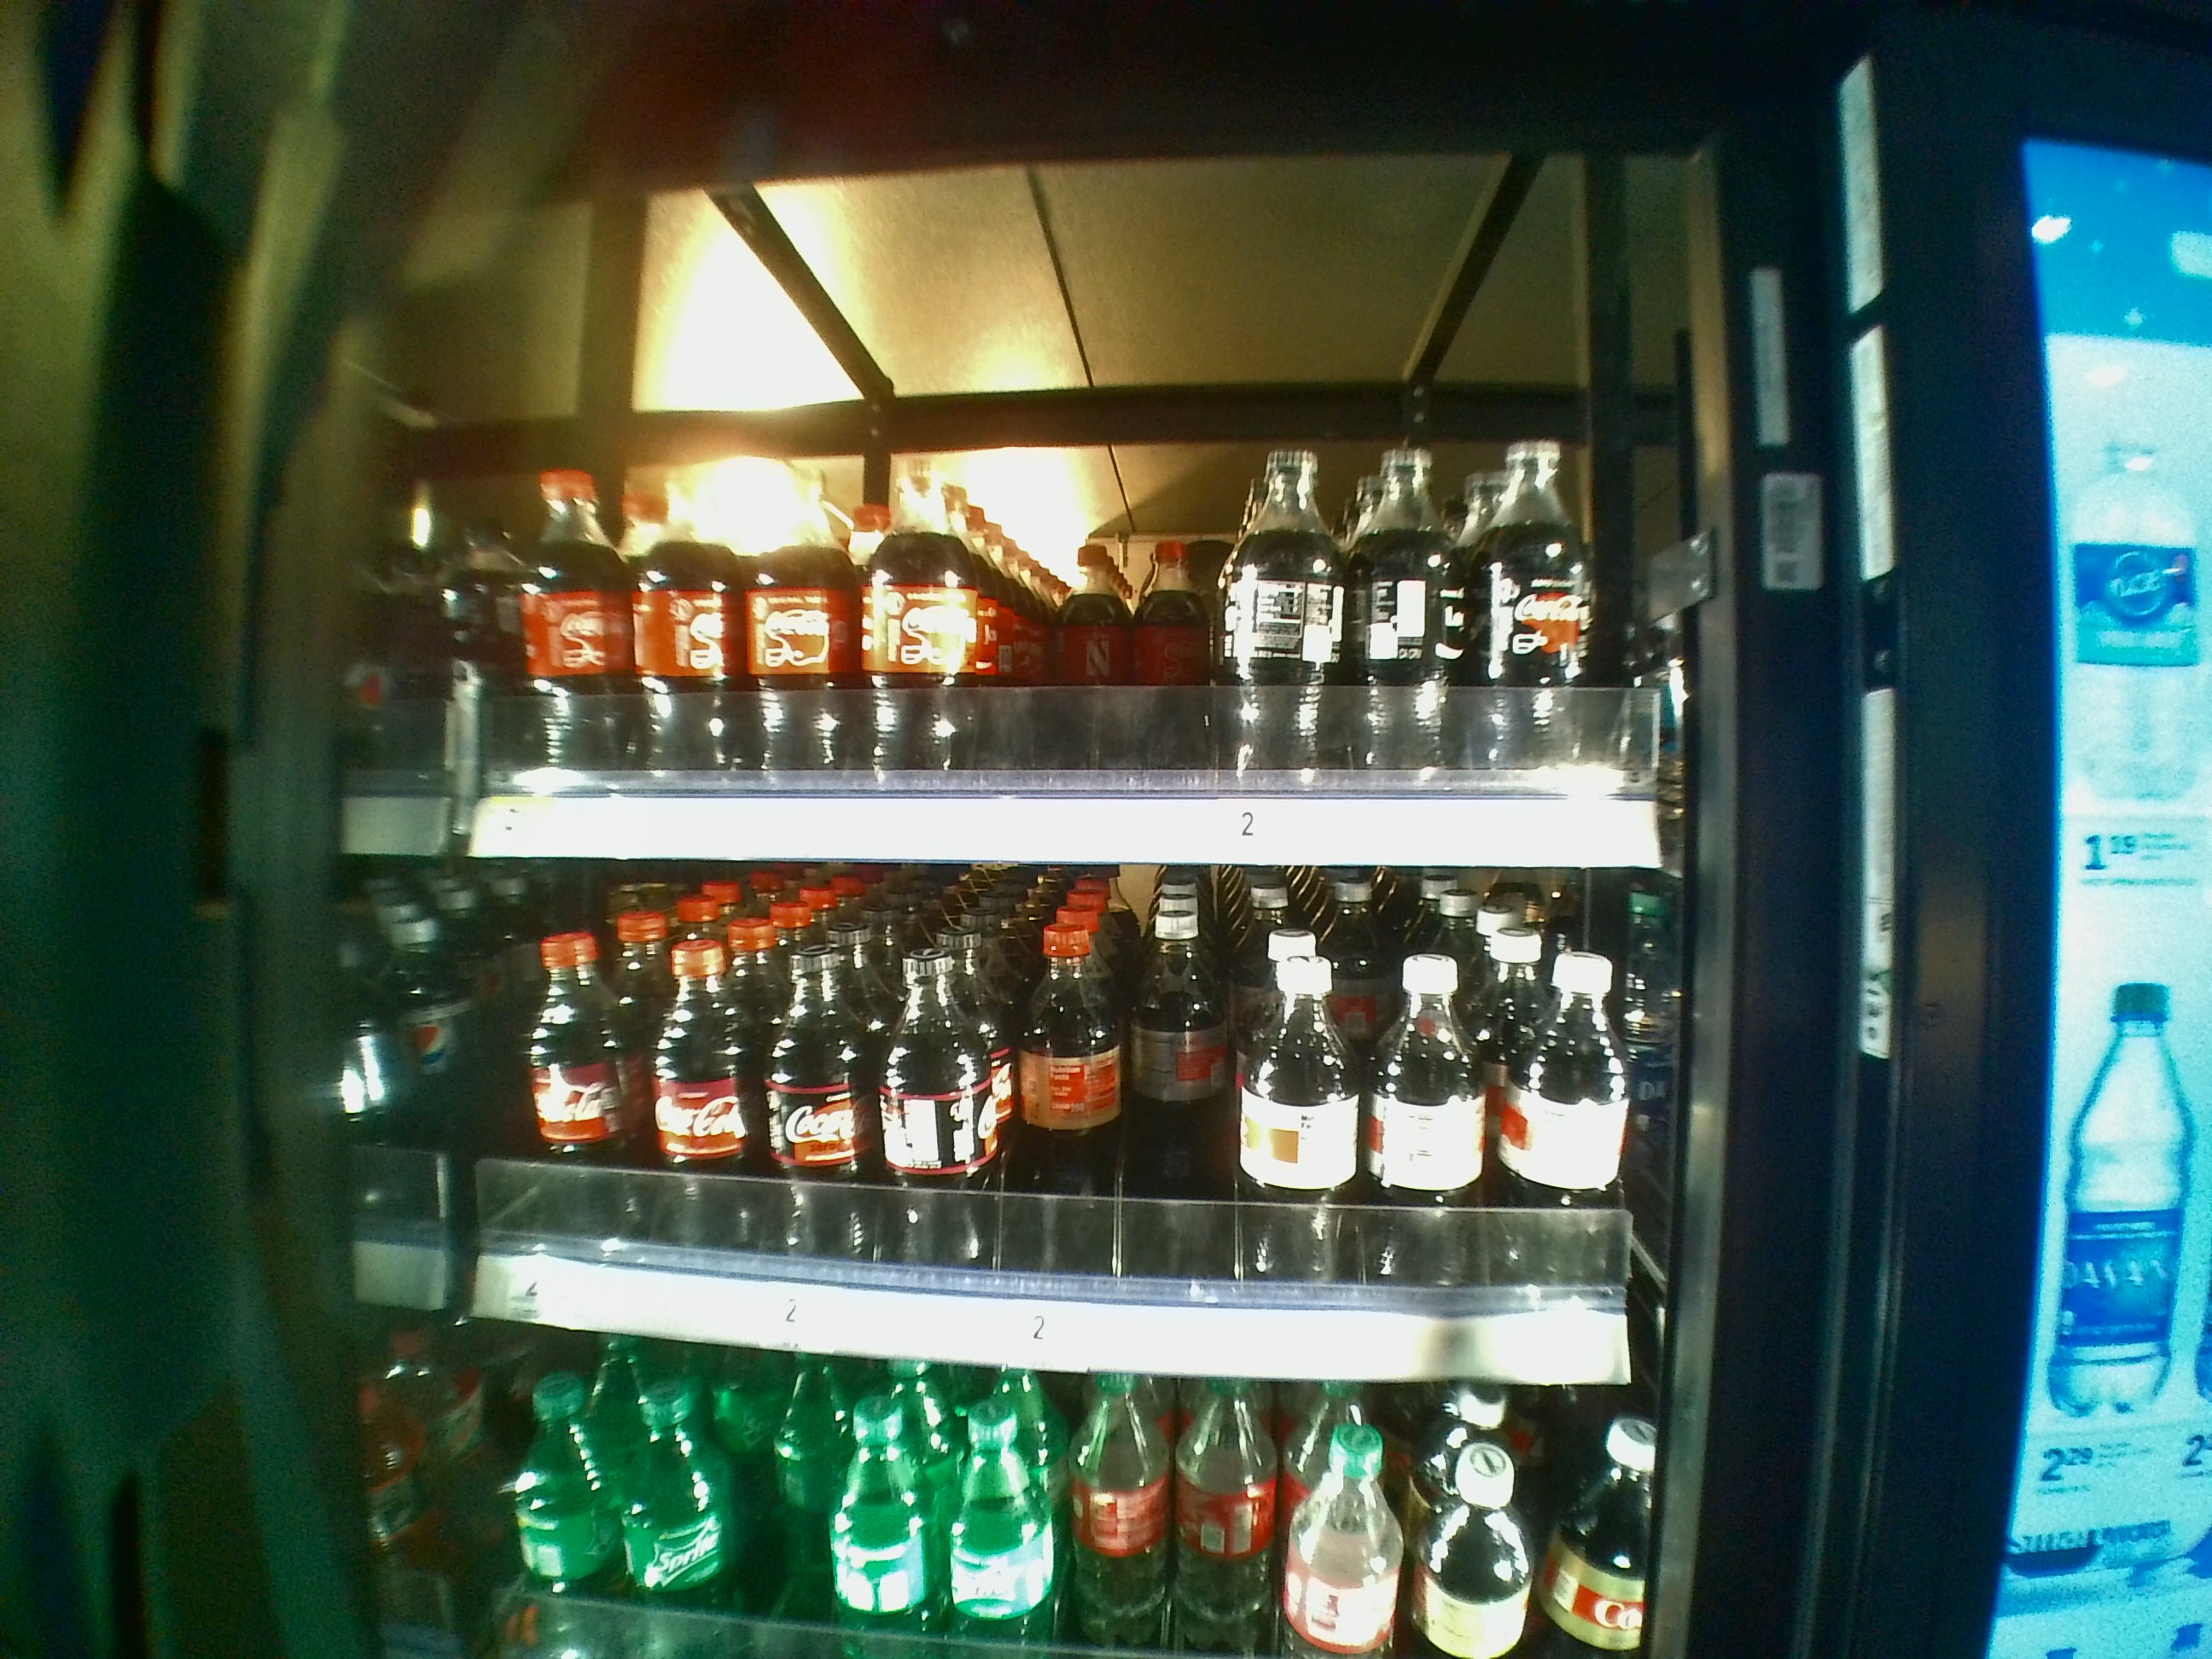shelf: (427, 181, 1703, 868), (420, 871, 1702, 1384)
